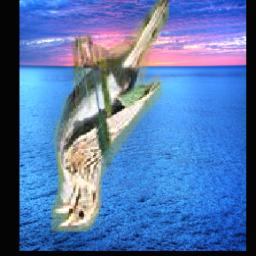Sparrow: (52, 0, 170, 232)
